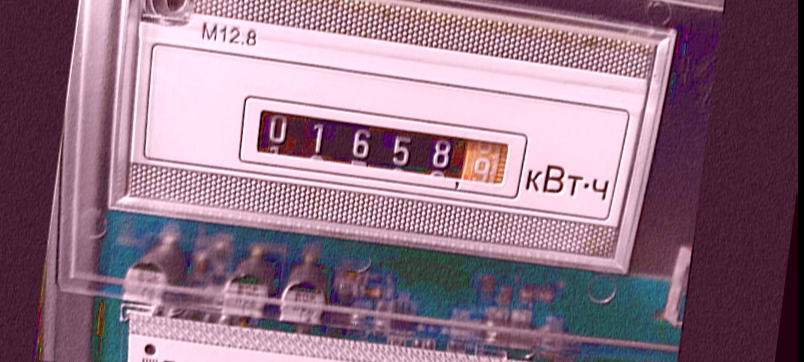0: (267, 113, 291, 145)
1: (309, 121, 330, 155)
5: (390, 134, 415, 167)
6: (351, 125, 375, 161)
8: (431, 136, 455, 170)
9: (469, 155, 494, 186)
screen: (227, 86, 535, 207)
